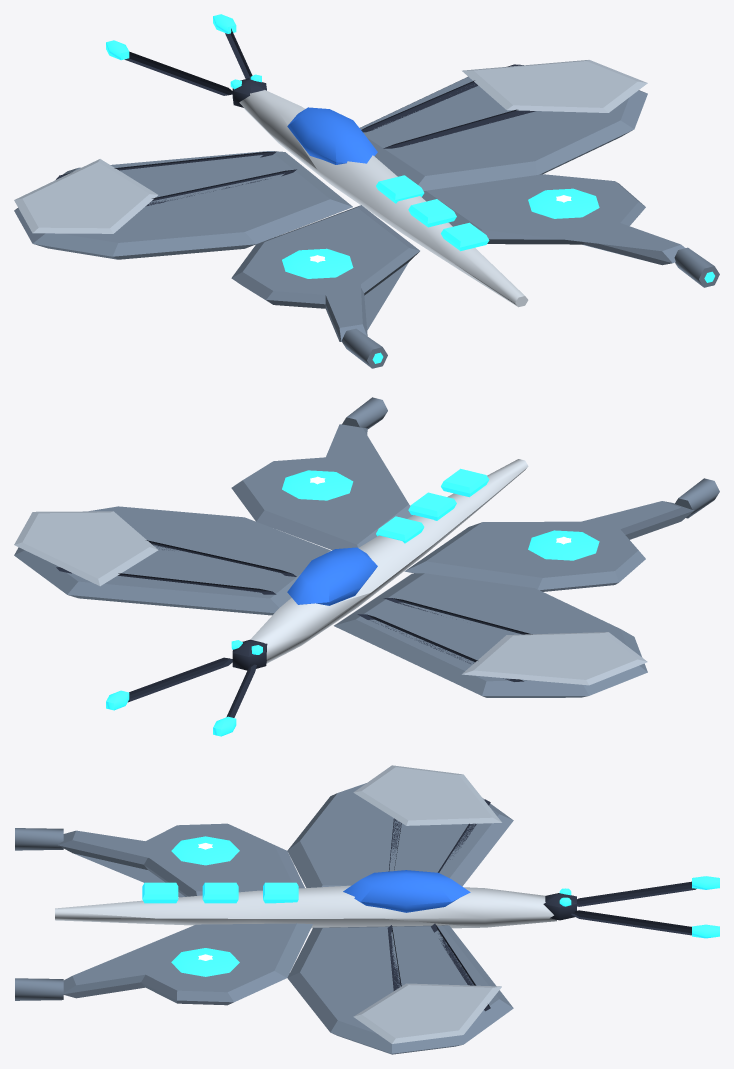
Rendered from bf_elite_drone_escort.glb.
3 views of the same model, one above another, from view 1: azimuth 30°, elevation 25°; view 2: azimuth 150°, elevation 25°; view 3: azimuth 270°, elevation 25° (orthographic). The views are drawn at different scales.
Visible parts, largest first — view 1: ELITE // BUTTERFLY DRONES; view 2: ELITE // BUTTERFLY DRONES; view 3: ELITE // BUTTERFLY DRONES.
Part boxes in pixels (x1,y1,x2,y2): ELITE // BUTTERFLY DRONES: [14, 14, 719, 368]; ELITE // BUTTERFLY DRONES: [14, 397, 719, 736]; ELITE // BUTTERFLY DRONES: [15, 765, 719, 1054].
Bounding box in the file's own units: 1.64 × 0.1356 × 1.76.
